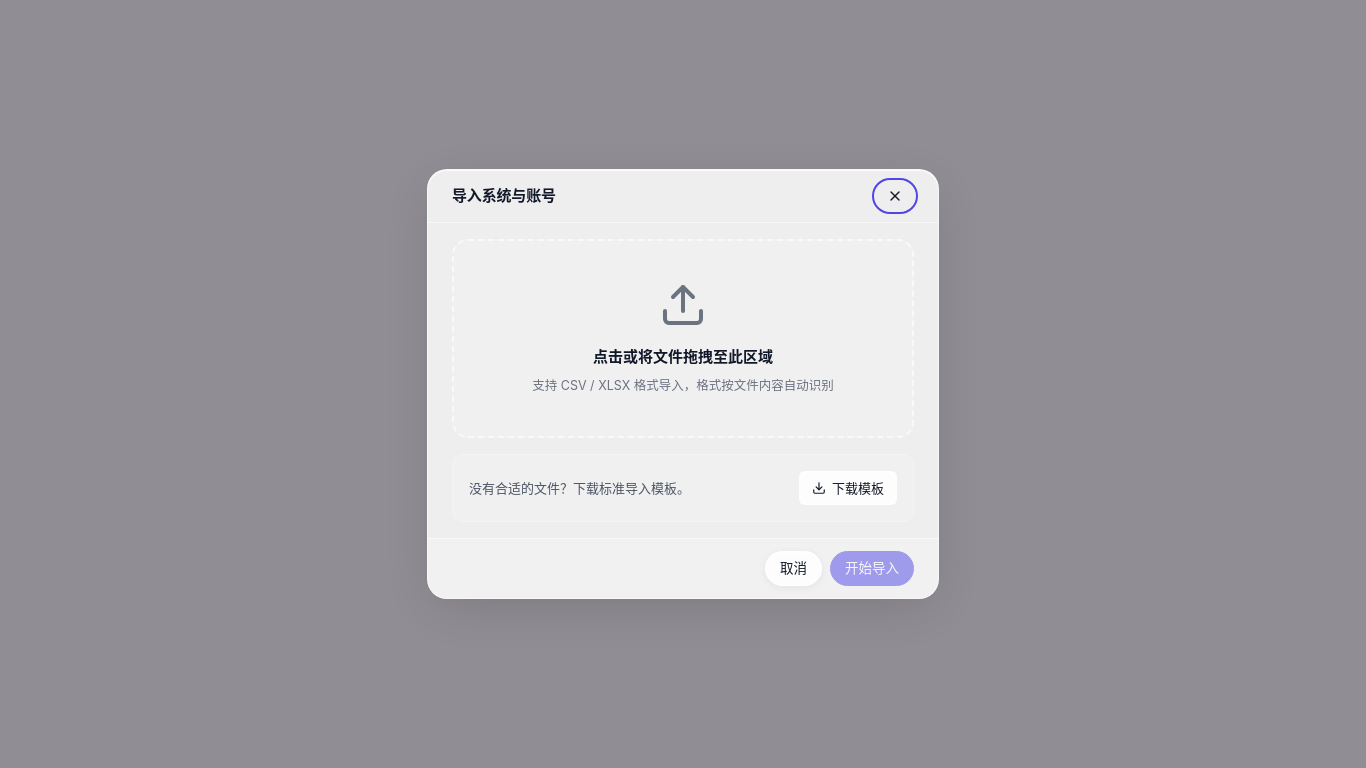
Test: 导入面（原型 819-841） › 选了文件就按后端回的文件格式播报，并带上那四个计数
Click the button with aria-label "选择要导入的 CSV 或 Excel 文件" at (683,305), box [452, 239, 914, 438]
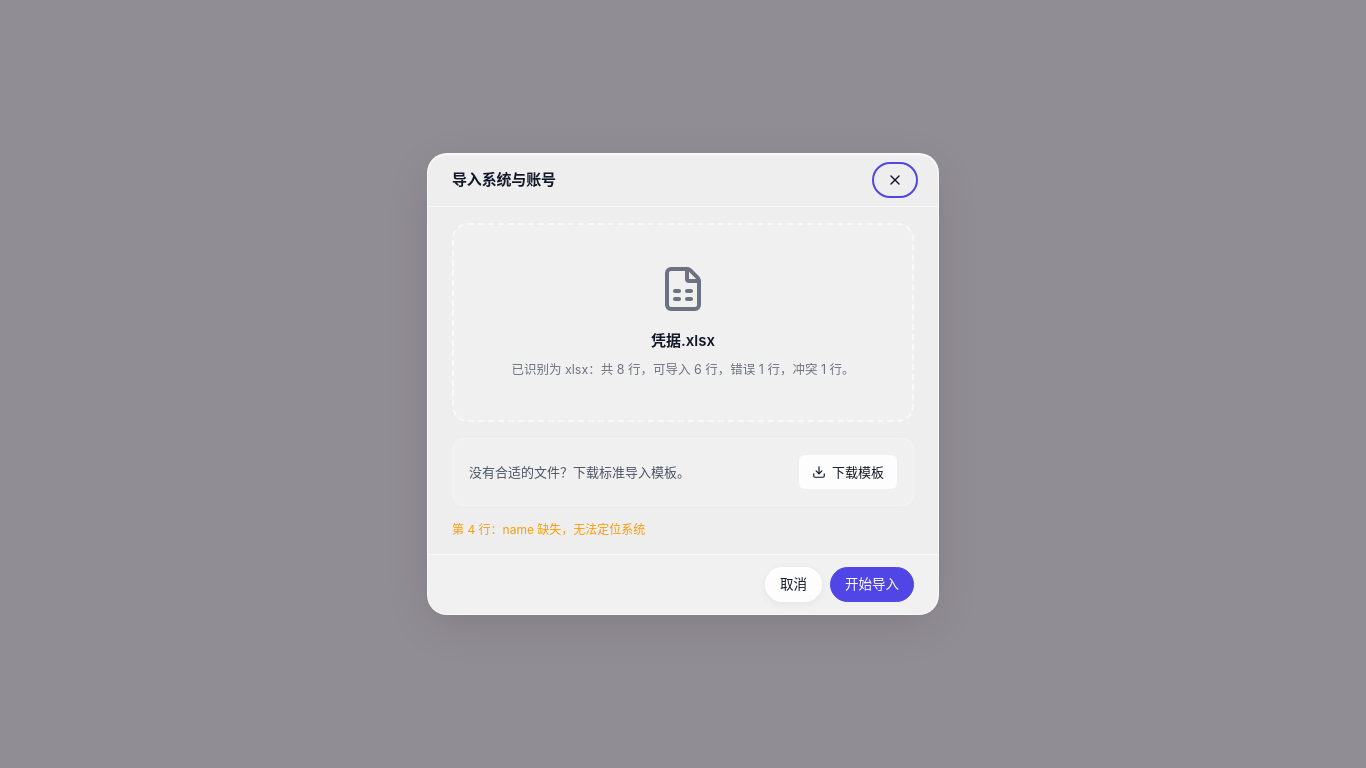
Now the message reads "已识别为 xlsx：共 8 行，可导入 6 行，错误 1 行，冲突 1 行。", box [512, 362, 855, 377]
Now the button "开始导入" is enabled, box [830, 567, 914, 602]
